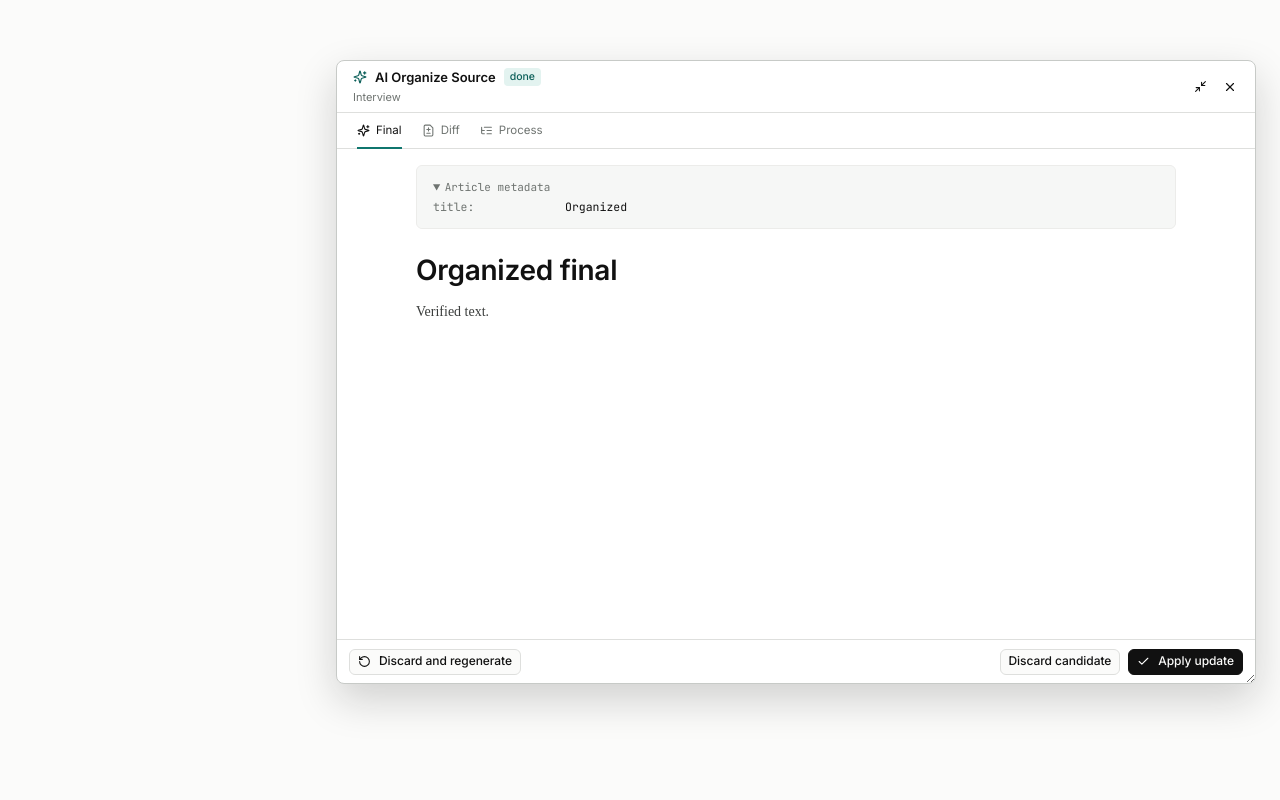
Test: Source reader and lifecycle boundaries › shows the validated final candidate first and keeps Diff optional
Expected: the heading "Organized final" is shown, [416,253,617,287]
Expected: the text "- # Original" is not shown
Click the tab "Diff" at (441, 130), box [414,113,468,148]
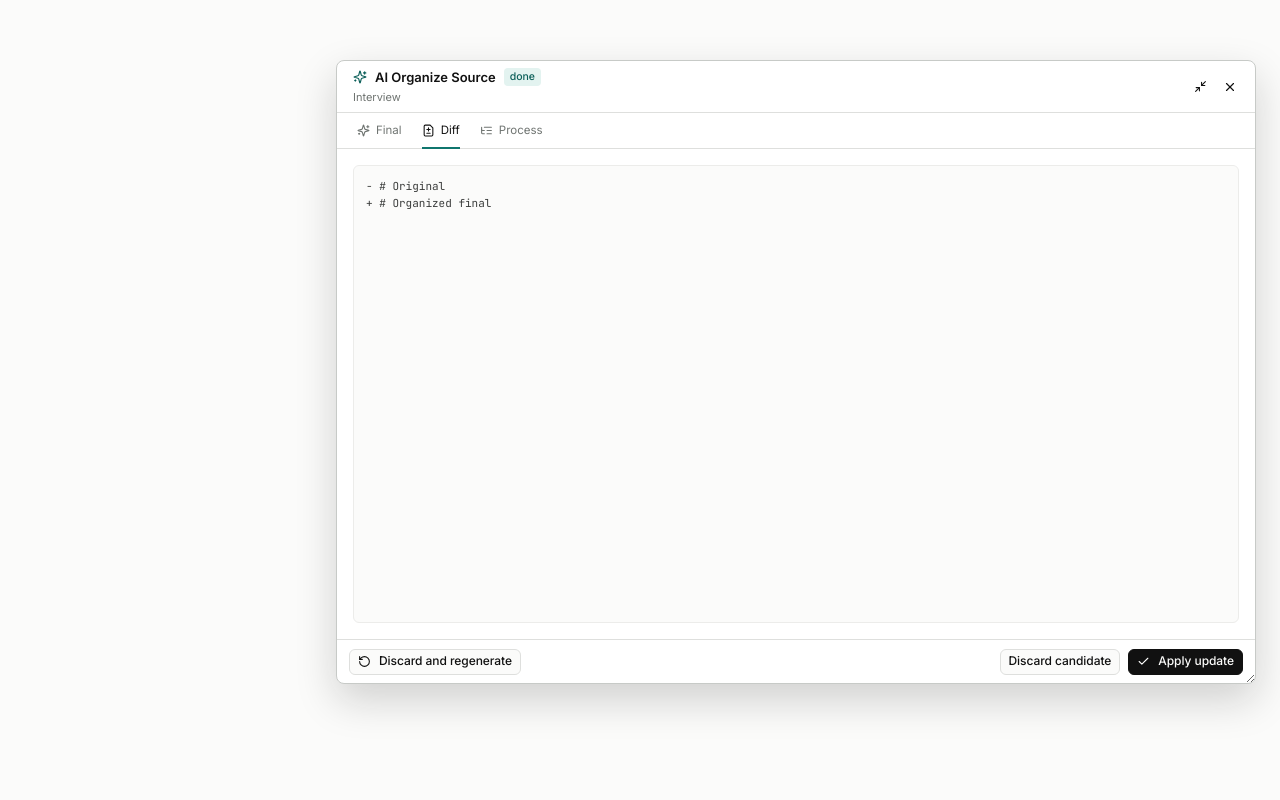
Expected: the text "- # Original + # Organized final" is shown, [353,165,1239,623]
